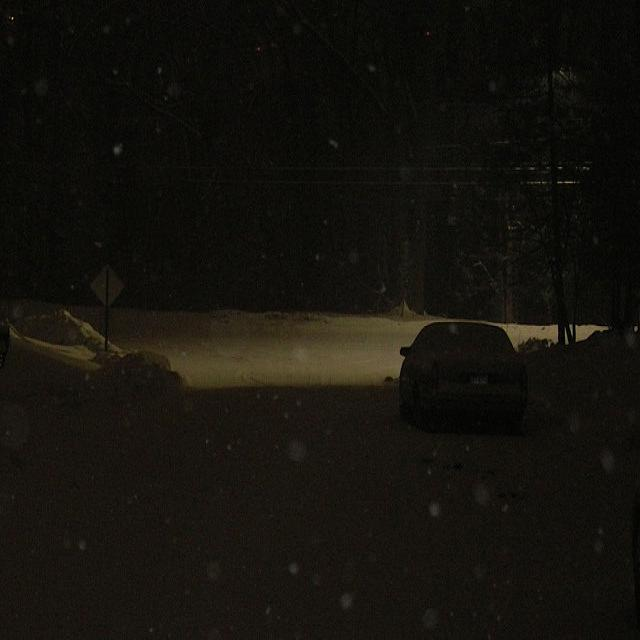Car: (372, 308, 562, 455)
